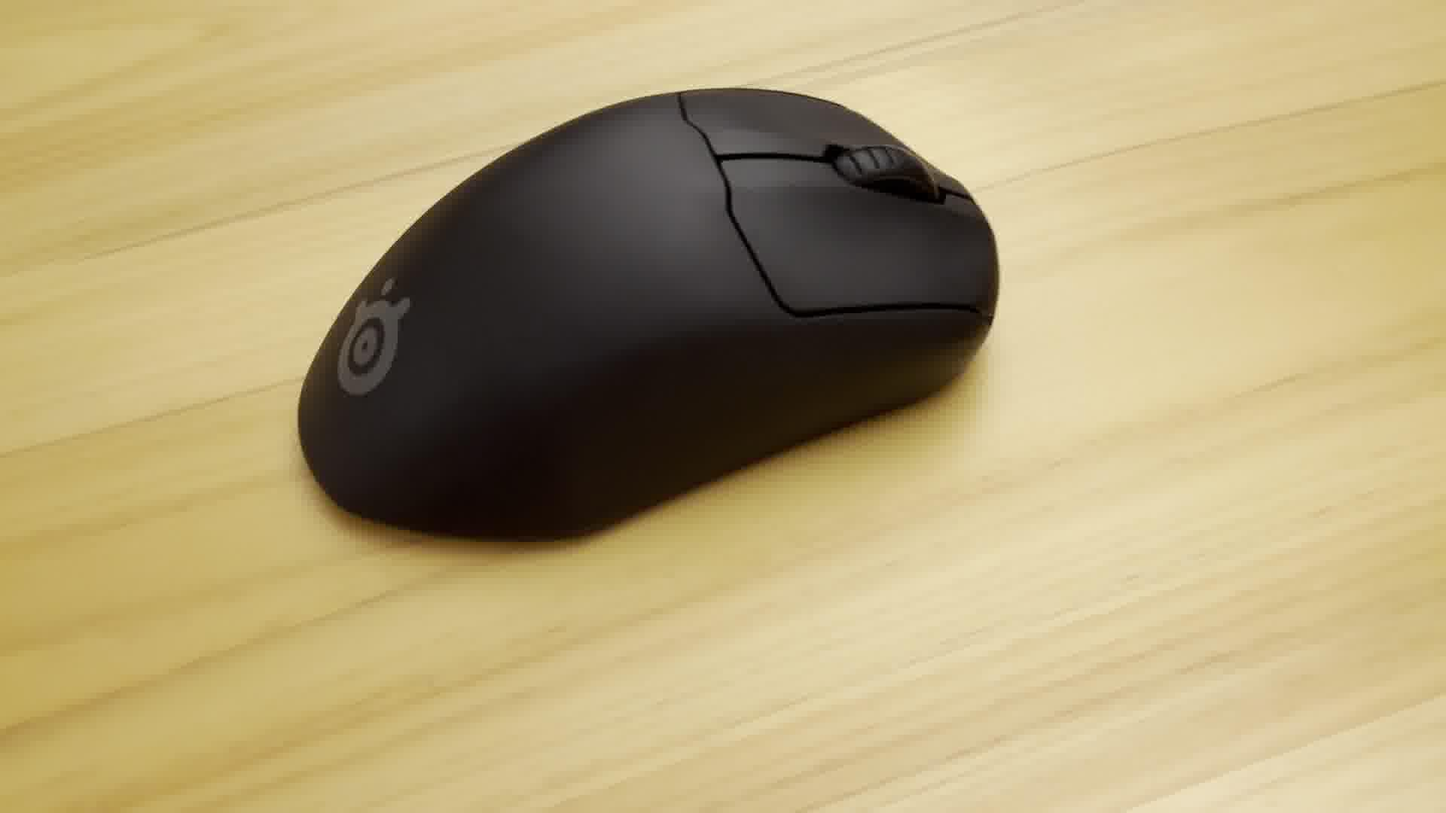steel-series: (288, 74, 1011, 564)
